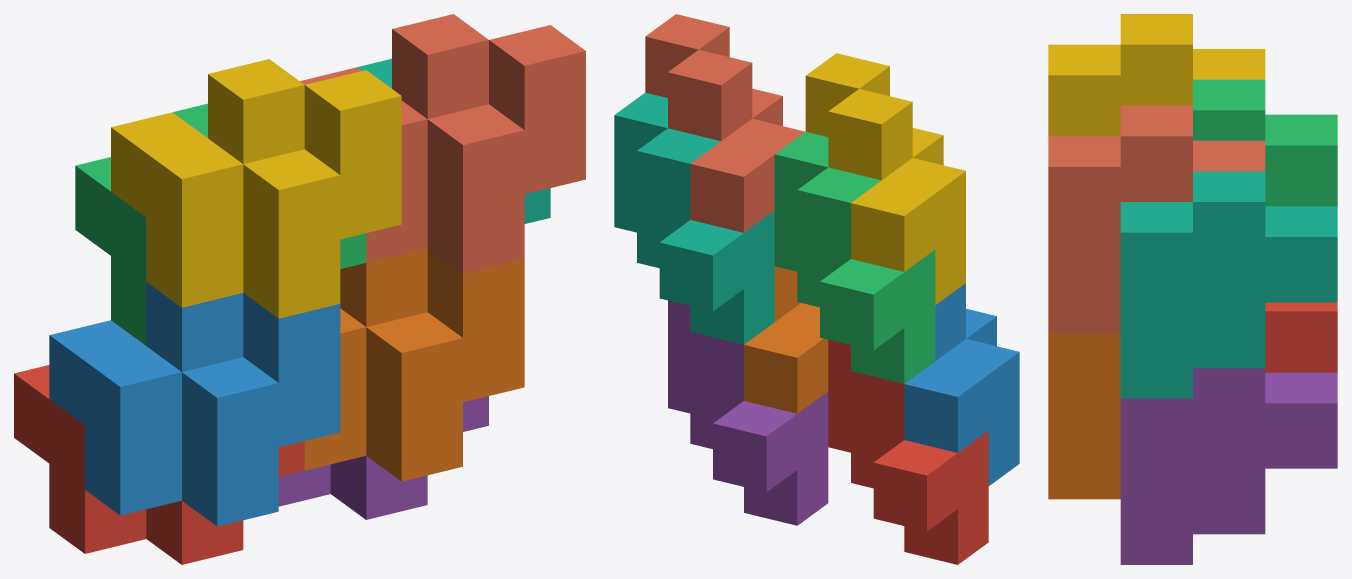
Rendered from tiling.obj.
The picture shows the model from 3 angles, left to right: view 1: azimuth 30°, elevation 25°; view 2: azimuth 150°, elevation 25°; view 3: azimuth 270°, elevation 25°; orthographic projection. The views are drawn at different scales.
Parts seen in each view (by area): view 1: copy_1_domain_4, copy_1_domain_2, copy_1_domain_8, copy_1_domain_6, copy_1_domain_1, copy_1_domain_3, copy_1_domain_5, copy_1_domain_7; view 2: copy_1_domain_4, copy_1_domain_3, copy_1_domain_7, copy_1_domain_8, copy_1_domain_1, copy_1_domain_5, copy_1_domain_2, copy_1_domain_6; view 3: copy_1_domain_7, copy_1_domain_5, copy_1_domain_8, copy_1_domain_4, copy_1_domain_6, copy_1_domain_3, copy_1_domain_1.
Part boxes in pixels (x1,y1,x2,y2): copy_1_domain_4: [111, 59, 401, 318]; copy_1_domain_2: [49, 282, 340, 526]; copy_1_domain_8: [300, 14, 585, 273]; copy_1_domain_6: [304, 248, 524, 481]; copy_1_domain_1: [14, 365, 304, 564]; copy_1_domain_3: [75, 103, 366, 345]; copy_1_domain_5: [278, 396, 488, 519]; copy_1_domain_7: [357, 58, 550, 223]; copy_1_domain_4: [805, 53, 965, 304]; copy_1_domain_3: [774, 132, 935, 383]; copy_1_domain_7: [614, 92, 774, 344]; copy_1_domain_8: [645, 14, 805, 232]; copy_1_domain_1: [828, 339, 988, 564]; copy_1_domain_5: [668, 300, 828, 525]; copy_1_domain_2: [904, 283, 1019, 485]; copy_1_domain_6: [744, 266, 828, 413]; copy_1_domain_7: [1120, 171, 1337, 398]; copy_1_domain_5: [1120, 368, 1337, 564]; copy_1_domain_8: [1048, 105, 1265, 333]; copy_1_domain_4: [1048, 14, 1265, 136]; copy_1_domain_6: [1048, 333, 1120, 499]; copy_1_domain_3: [1193, 79, 1337, 206]; copy_1_domain_1: [1265, 302, 1337, 372].
Size of the model in its own units: 7 by 7 by 4.
